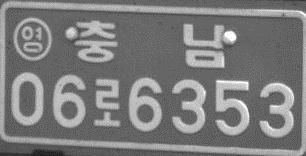0: (10, 70, 46, 127)
3: (169, 79, 208, 134), (259, 81, 294, 139)
5: (213, 78, 252, 135)
6: (126, 76, 162, 133), (52, 71, 86, 129)
로: (93, 77, 122, 128)
영: (11, 16, 53, 61)
충남_D: (74, 18, 228, 69)
